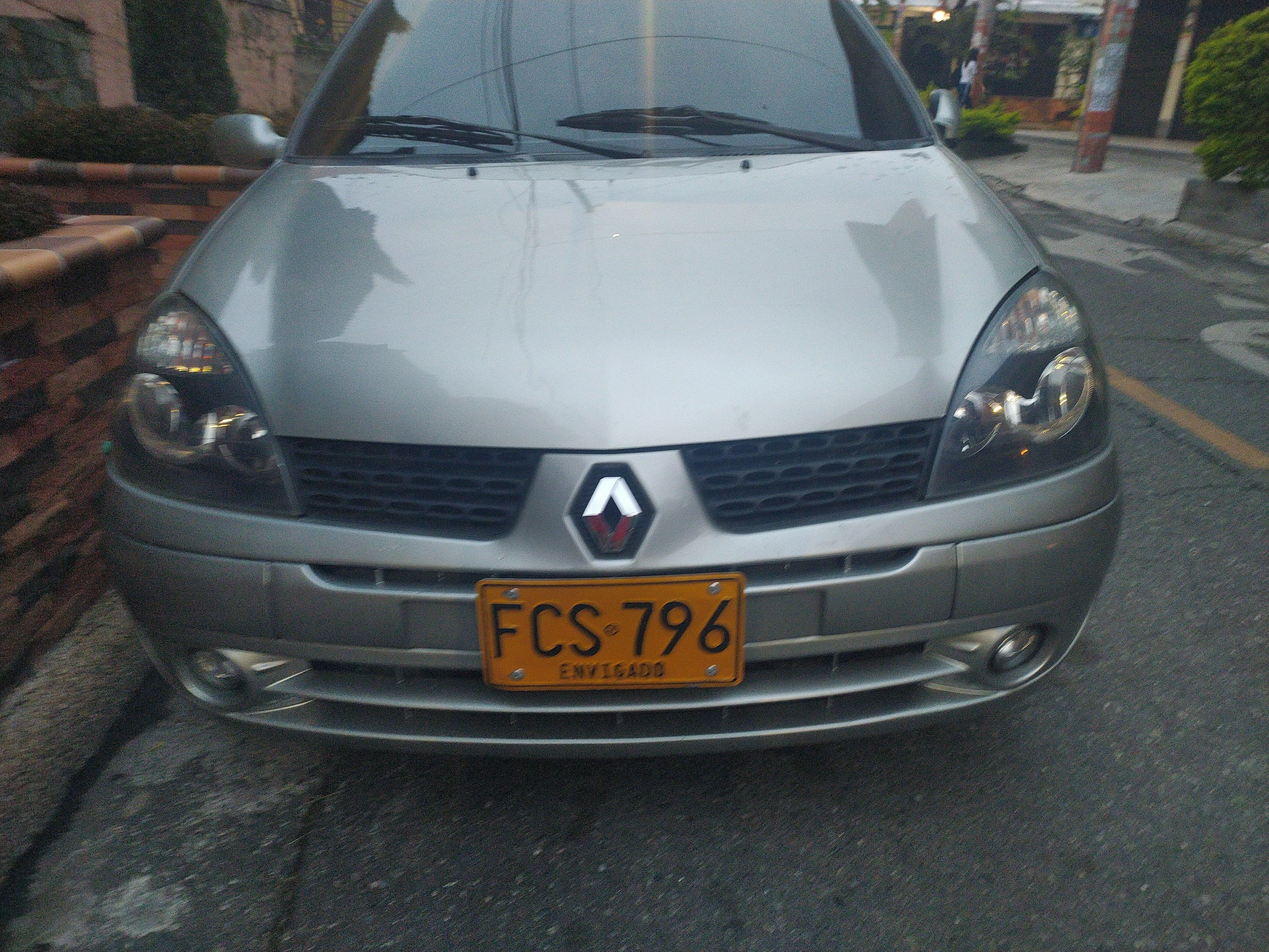placa: (461, 564, 757, 700)
